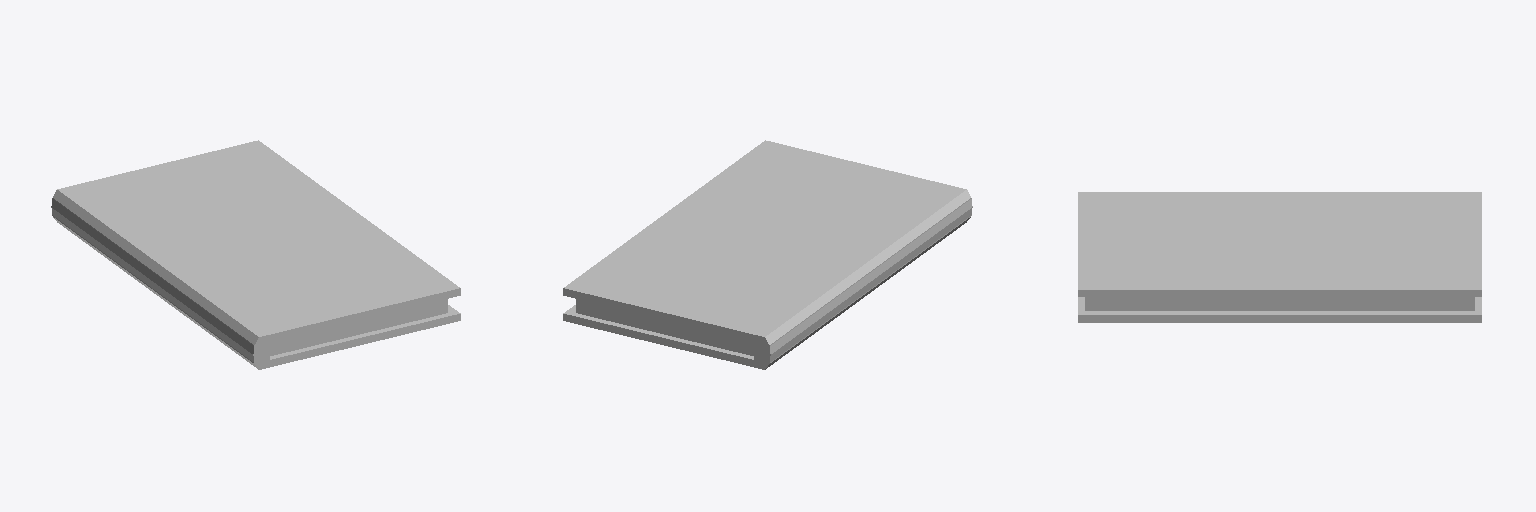
Rendered from Book.obj.
3 views of the same model, side by side, from view 1: azimuth 30°, elevation 25°; view 2: azimuth 150°, elevation 25°; view 3: azimuth 270°, elevation 25° (orthographic).
Parts seen in each view (by area): view 1: polySurface2 pCube2, pasted__pasted__pCube1 pasted__group group1; view 2: polySurface2 pCube2, pasted__pasted__pCube1 pasted__group group1; view 3: polySurface2 pCube2, pasted__pasted__pCube1 pasted__group group1.
Part boxes in pixels (bbox=[...]): polySurface2 pCube2: bbox=[51, 140, 460, 369]; pasted__pasted__pCube1 pasted__group group1: bbox=[270, 299, 447, 355]; polySurface2 pCube2: bbox=[563, 140, 972, 369]; pasted__pasted__pCube1 pasted__group group1: bbox=[576, 299, 753, 355]; polySurface2 pCube2: bbox=[1078, 192, 1481, 322]; pasted__pasted__pCube1 pasted__group group1: bbox=[1085, 297, 1474, 310].
Bounding box in the file's own units: 6.67 × 1.02 × 11.26.